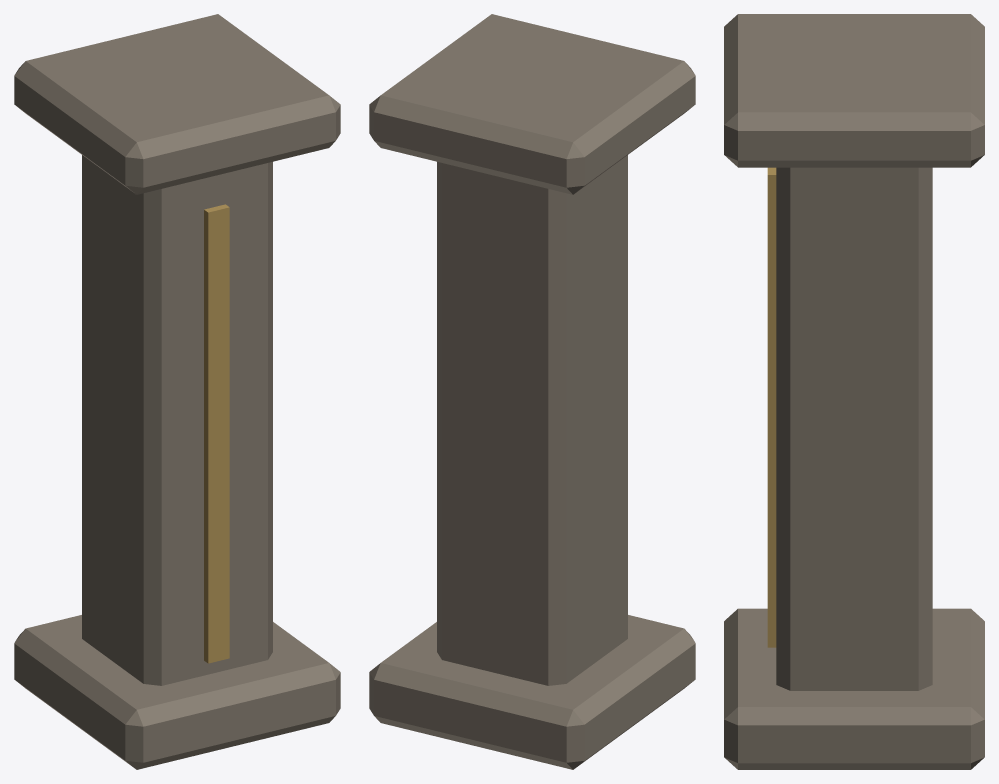
File: works_pillar.glb
3 renders of one model, left to right at view 1: azimuth 30°, elevation 25°; view 2: azimuth 150°, elevation 25°; view 3: azimuth 270°, elevation 25°, orthographic. The views are drawn at different scales.
Visible parts, largest first — view 1: pillar, cap, base.001, stripe; view 2: pillar, cap, base.001; view 3: pillar, cap, base.001, stripe.
Part boxes in pixels (x1,y1,x2,y2): pillar: (82, 155, 272, 685); cap: (14, 14, 340, 194); base.001: (14, 615, 340, 769); stripe: (204, 204, 229, 663); pillar: (437, 155, 627, 685); cap: (369, 14, 695, 194); base.001: (369, 615, 695, 769); pillar: (776, 167, 932, 690); cap: (724, 14, 984, 167); base.001: (724, 608, 984, 769); stripe: (767, 167, 776, 647).
Size of the model in its own units: 1.5 by 4.17 by 1.5.
